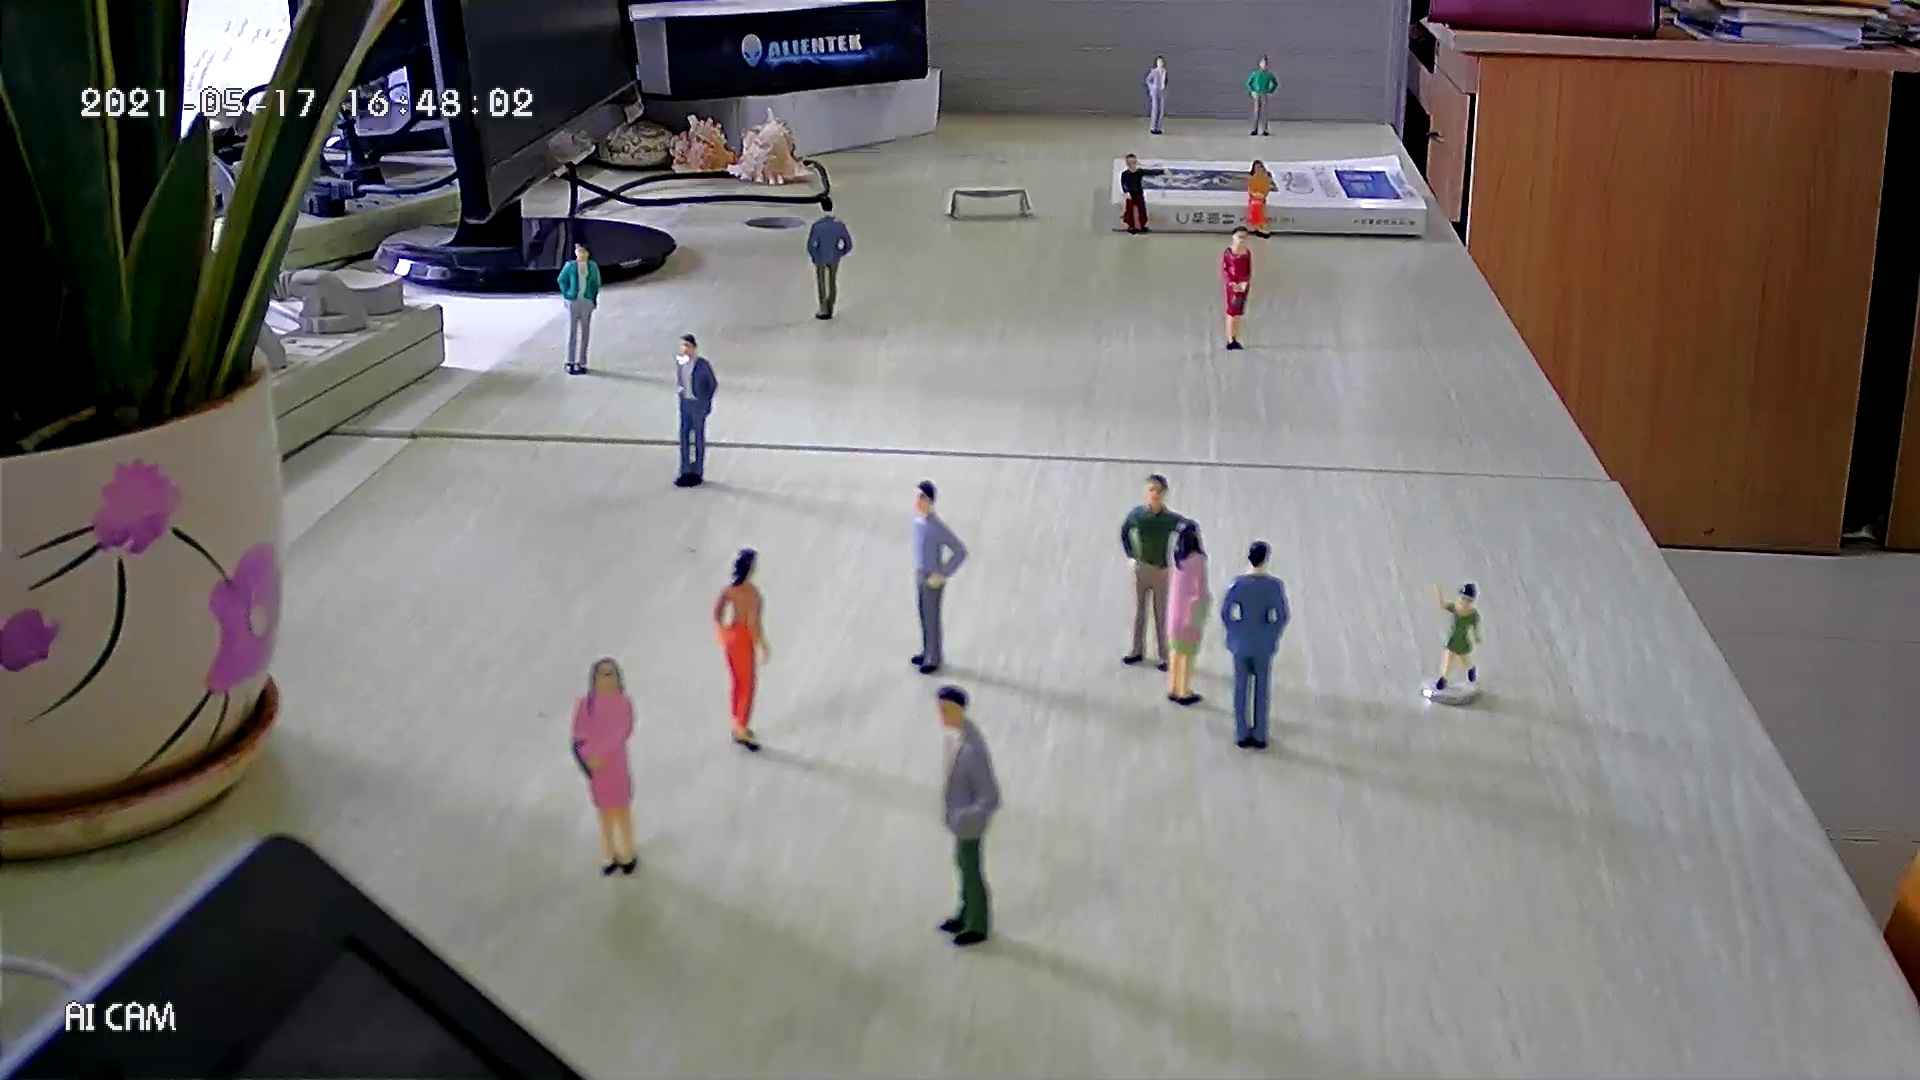person: (929, 682, 1009, 948), (1217, 540, 1293, 750), (571, 656, 641, 880), (1117, 472, 1187, 676), (715, 548, 775, 754), (911, 480, 967, 676), (1161, 518, 1213, 708), (673, 332, 721, 488), (555, 238, 607, 378), (1427, 574, 1485, 694), (805, 194, 855, 324), (1119, 150, 1175, 238), (1219, 228, 1255, 352), (1241, 156, 1279, 240), (1245, 52, 1281, 140), (1145, 52, 1173, 138)
